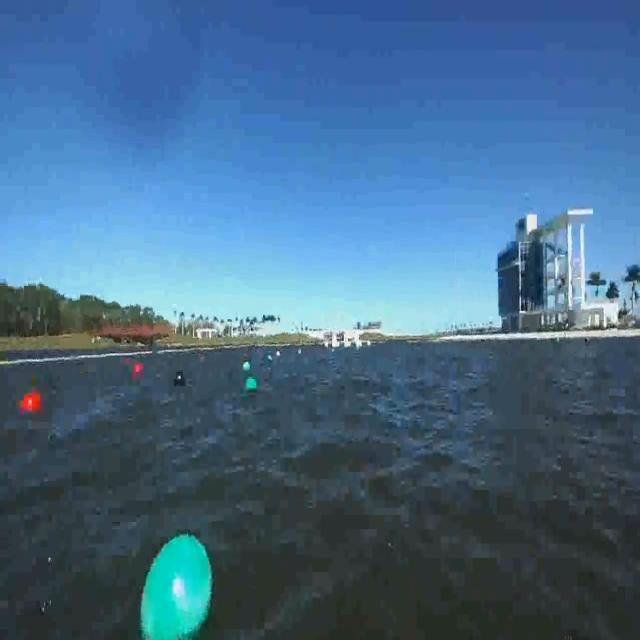black-buoy: (174, 372, 187, 388)
green-buoy: (136, 528, 222, 639), (246, 377, 258, 392)
red-buoy: (24, 391, 44, 413), (135, 362, 144, 375)
